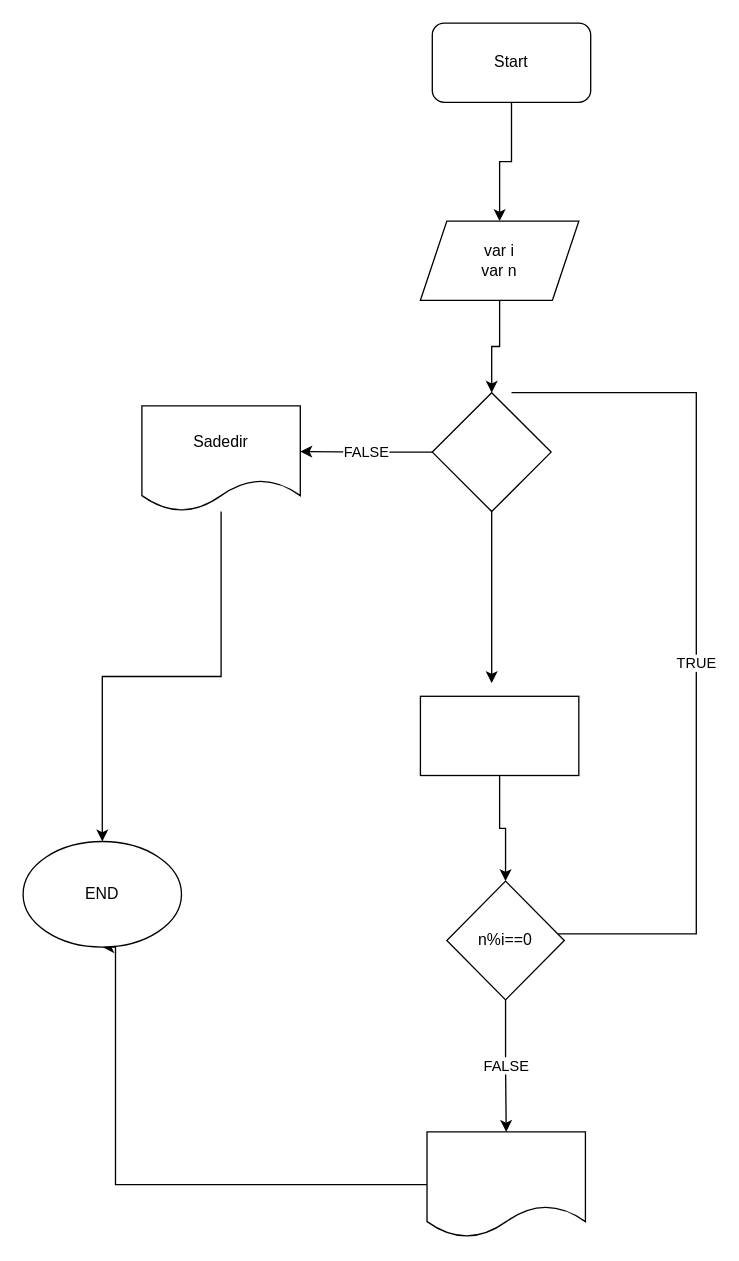
This 739x1261 diagram has some shape labels left out. Each missing label, with the box of its shape:
i++: (419, 695, 579, 776)
i<n: (431, 391, 551, 512)
murekkebdir: (426, 1131, 585, 1238)
